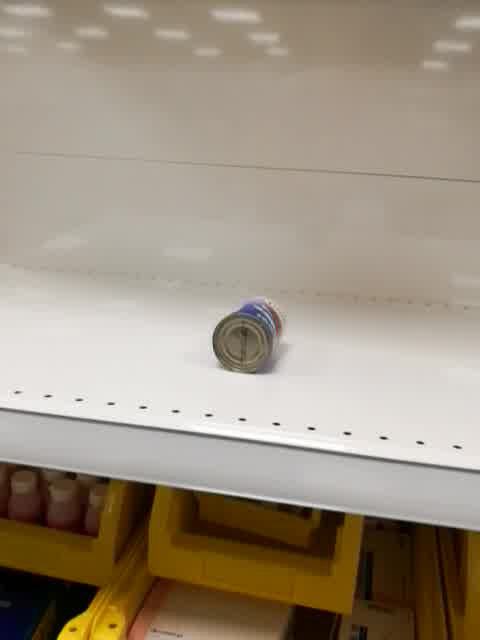sardine: (212, 296, 285, 374)
